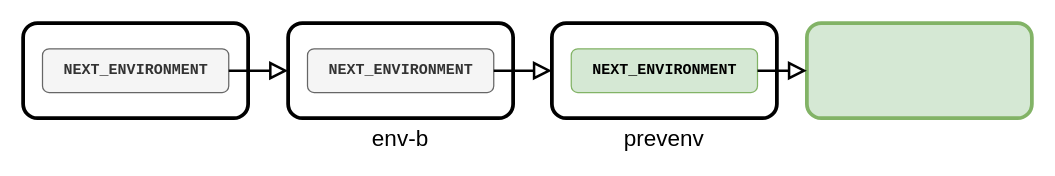
Some shapes in this 1055 by 176 pixel diagram are drawn without their labels. The box of each missing label's shape, as (x1, y1, x2, y2) in pixels:
env-a: (21, 21, 249, 119)
newenv: (804, 21, 1033, 119)
